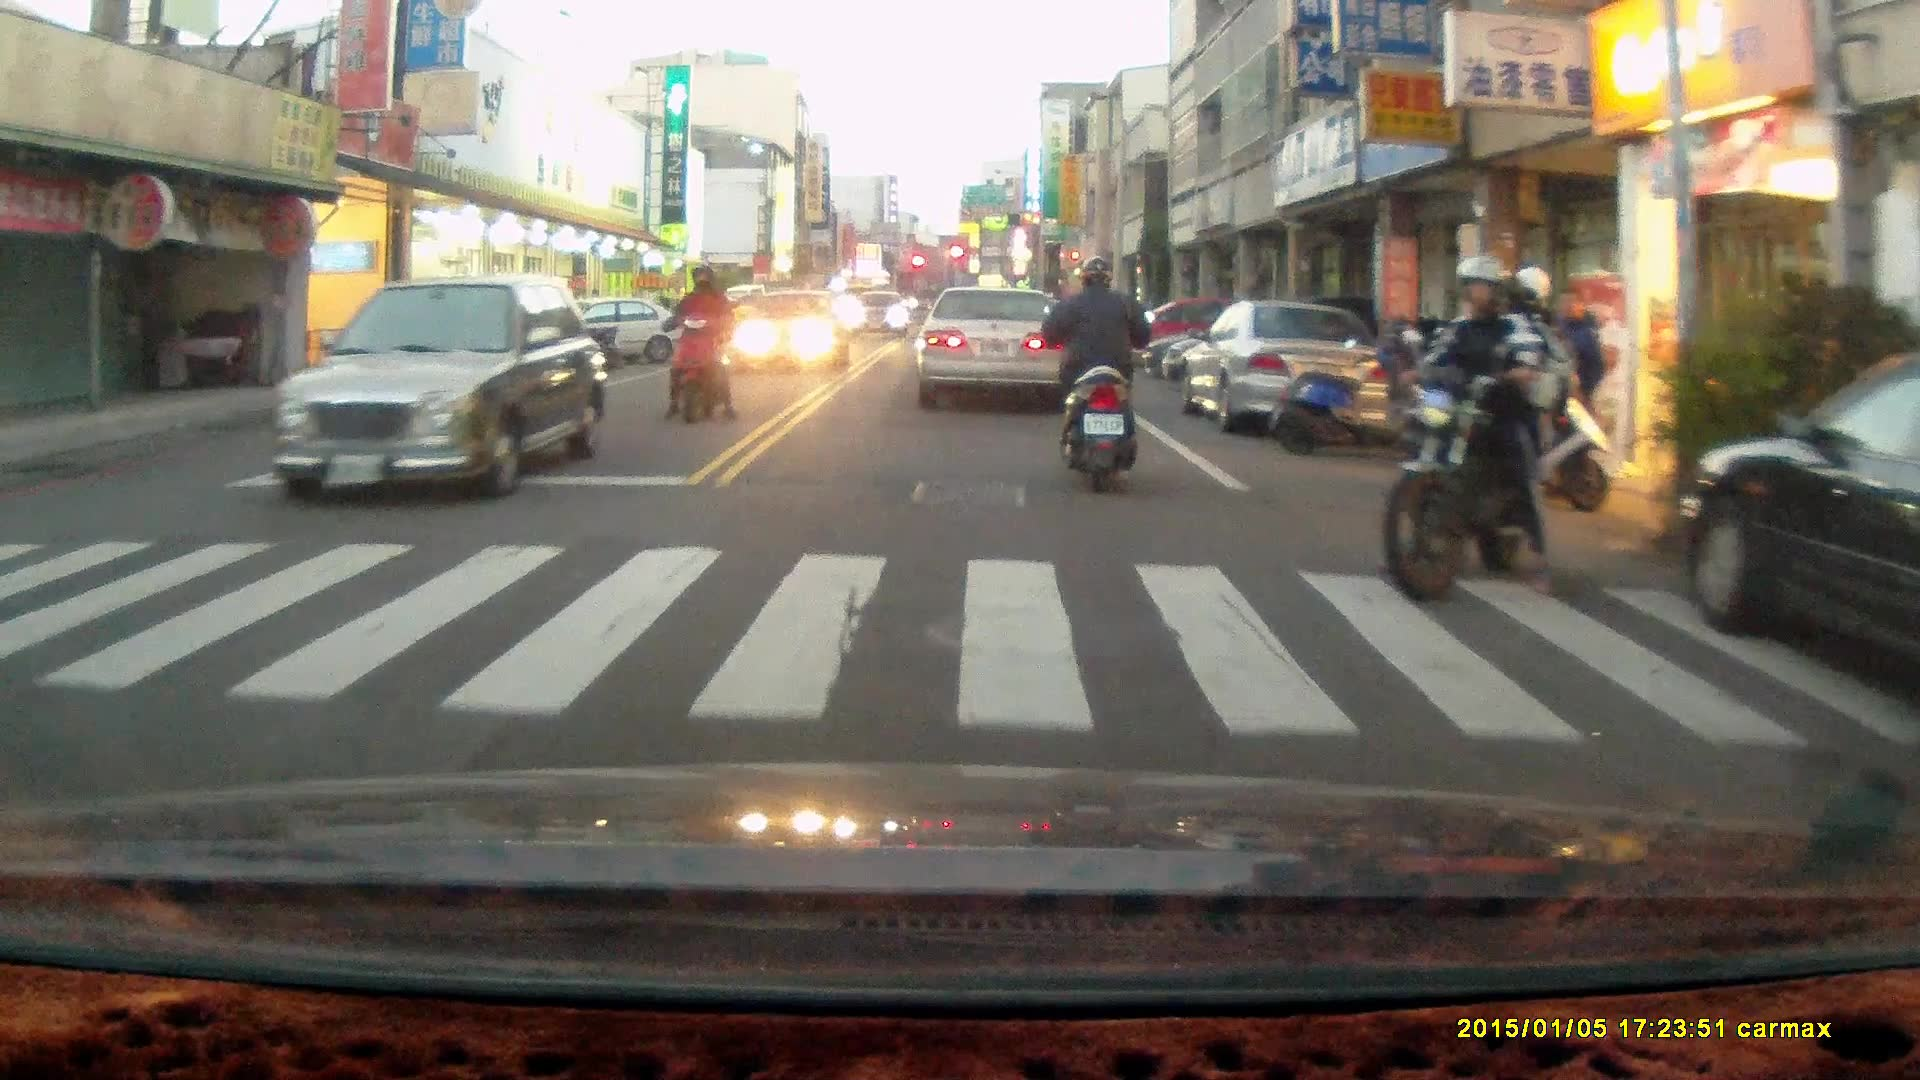pedestrian: (1546, 283, 1606, 476)
rider: (1382, 257, 1579, 595), (1037, 251, 1153, 490), (659, 261, 737, 425)
vehicle: (1670, 344, 1920, 711), (279, 274, 610, 504), (1187, 304, 1401, 440), (920, 287, 1075, 396), (724, 286, 844, 373), (845, 286, 920, 345)
